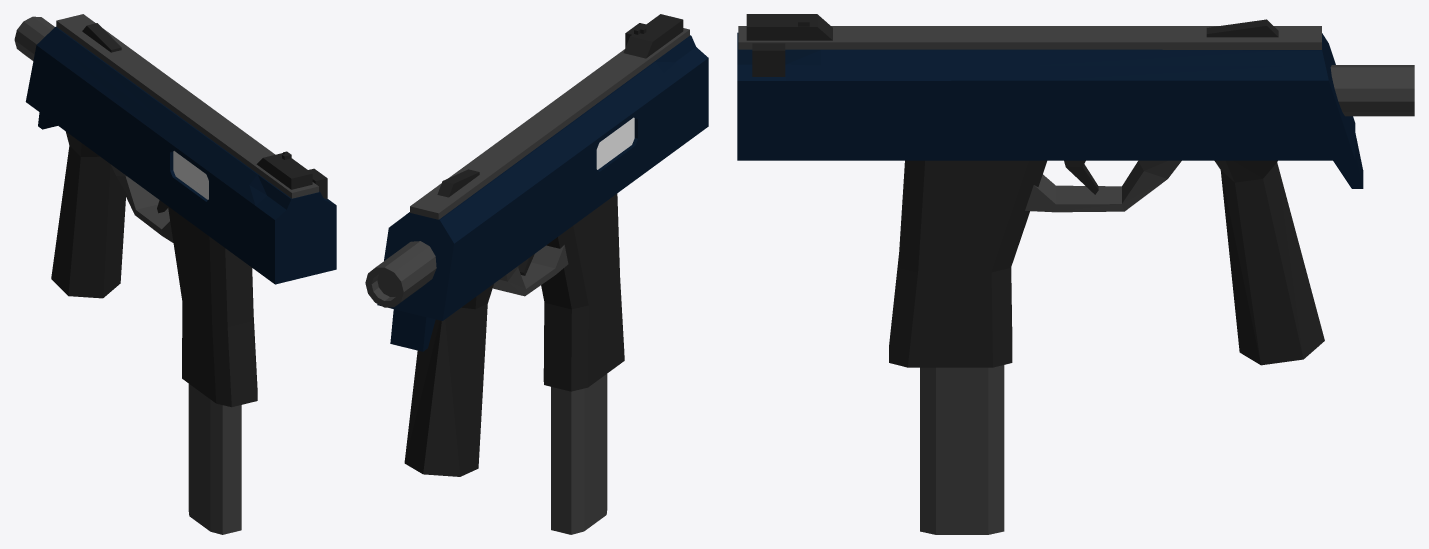
The model's file is gun_smg_01.glb.
3 views of the same model, side by side, from view 1: azimuth 30°, elevation 25°; view 2: azimuth 150°, elevation 25°; view 3: azimuth 270°, elevation 25° (orthographic). The views are drawn at different scales.
Visible parts, largest first — view 1: smg_01; view 2: smg_01; view 3: smg_01.
Part boxes in pixels (x1,y1,x2,y2): smg_01: (14,14,336,534); smg_01: (365,14,708,534); smg_01: (737,14,1414,534).
Bounding box in the file's own units: 0.0545 × 0.3488 × 0.42.
